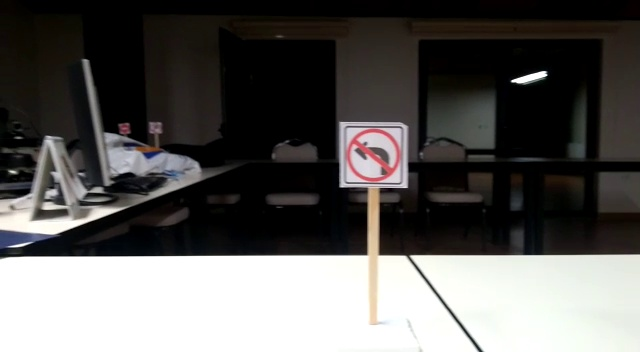sola_donulmez: (332, 124, 407, 184)
